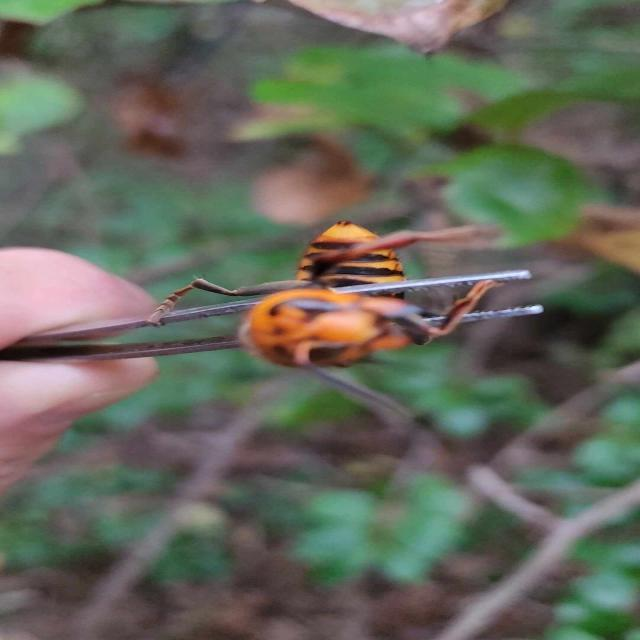Wasp: (193, 189, 499, 450)
